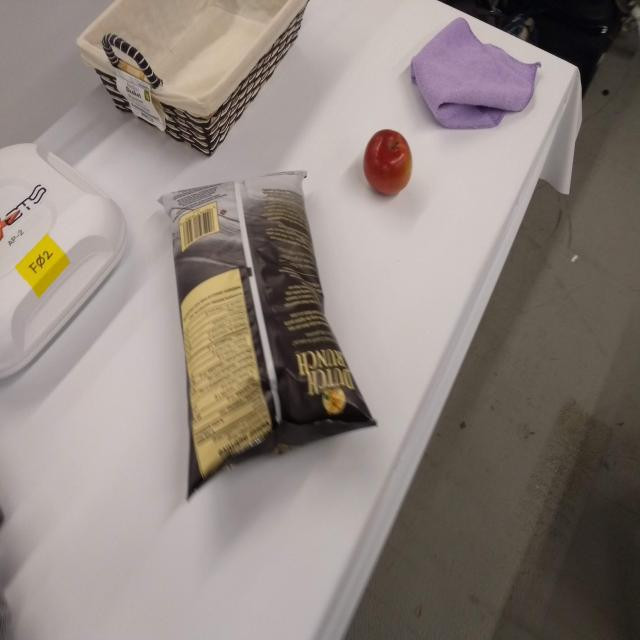apple: (360, 125, 416, 198)
cloth_opl: (408, 20, 544, 135)
potato_chips: (155, 165, 380, 506)
